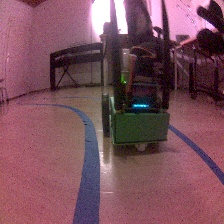rob: (100, 55, 171, 152)
